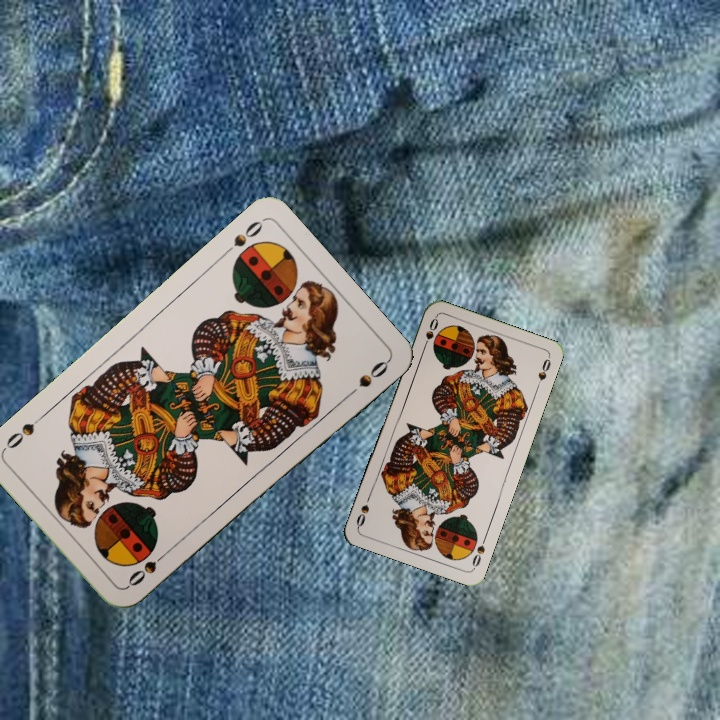SO: (123, 546, 172, 591), (218, 216, 266, 260), (419, 314, 441, 353), (468, 532, 489, 571)
